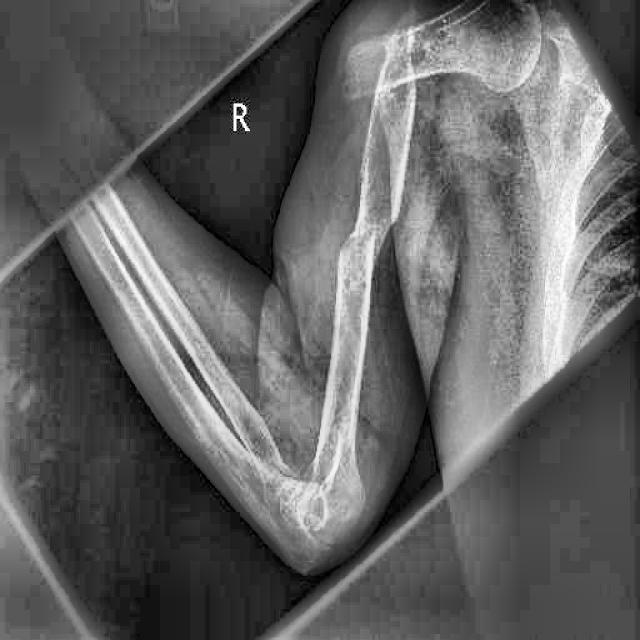humerus: (297, 215, 426, 387), (336, 3, 441, 139)
